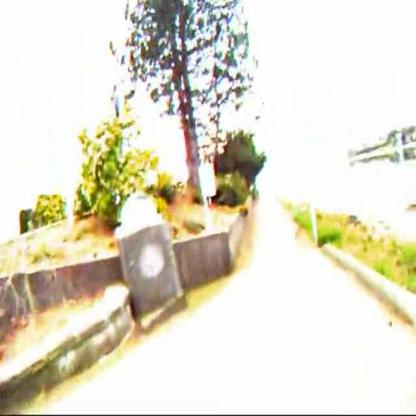other: (260, 192, 297, 315)
